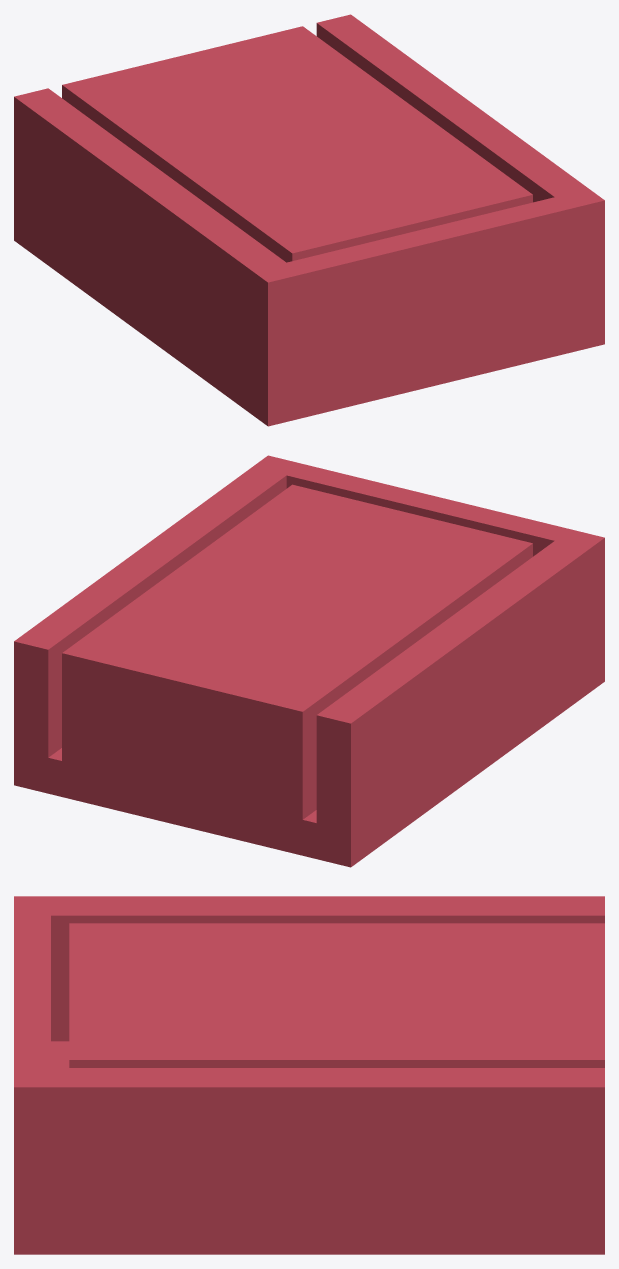
Rendered from Smooth Krunk.glb.
3 views of the same model, one above another, from view 1: azimuth 30°, elevation 25°; view 2: azimuth 150°, elevation 25°; view 3: azimuth 270°, elevation 25° (orthographic). The views are drawn at different scales.
Visible parts, largest first — view 1: Mesh_Mesh_head_geo.001_lambert2SG.001; view 2: Mesh_Mesh_head_geo.001_lambert2SG.001; view 3: Mesh_Mesh_head_geo.001_lambert2SG.001.
Boxes of the visible parts, x1,y1,x2,y2 form: Mesh_Mesh_head_geo.001_lambert2SG.001: (14, 14, 604, 426); Mesh_Mesh_head_geo.001_lambert2SG.001: (14, 455, 604, 867); Mesh_Mesh_head_geo.001_lambert2SG.001: (14, 896, 604, 1254).
Size of the model in its own units: 0.049 by 0.02 by 0.064.
